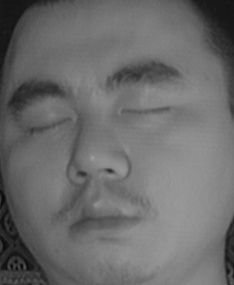blink: (120, 92, 175, 129), (26, 108, 72, 143)
mouth: (57, 188, 148, 246)
